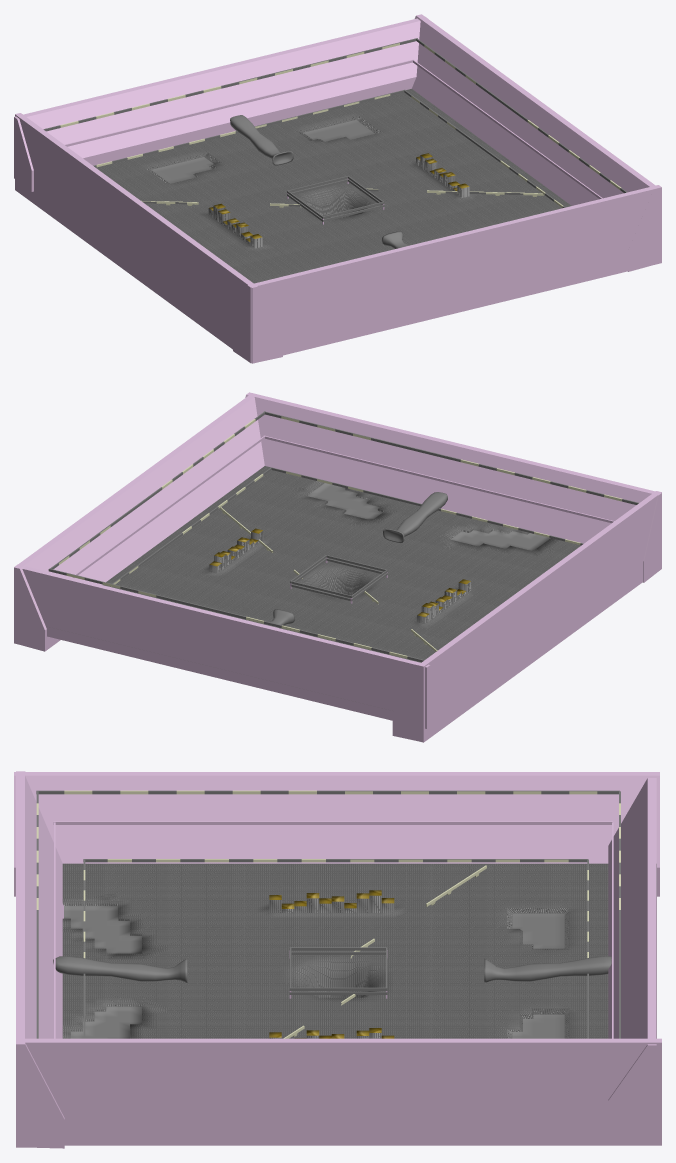
Rendered from electricCentral.glb.
The picture shows the model from 3 angles, top to bottom: view 1: azimuth 30°, elevation 25°; view 2: azimuth 150°, elevation 25°; view 3: azimuth 270°, elevation 25°; orthographic projection. The views are drawn at different scales.
Parts seen in each view (by area): view 1: Plane, Cube.002, Cube.003, Cube.001, Cube, ledge.016, ledge.020, Cube.004, ledge.012, ledge.018, ledge.022, ledge.014; view 2: Plane, Cube.003, Cube.002, Cube.001, Cube, ledge.016, ledge.017, ledge.021, Cube.005, ledge.013, ledge.018, ledge.022 (+1 smaller); view 3: Plane, Cube, Cube.001, Cube.002, Cube.003, ledge.019, ledge.023, Cube.005, Cube.004, ledge.015, ledge.017.
Boxes of the visible parts, bbox=[...] form: Plane: bbox=[96, 88, 571, 283]; Cube.002: bbox=[233, 185, 661, 363]; Cube.003: bbox=[14, 17, 427, 191]; Cube.001: bbox=[15, 113, 282, 363]; Cube: bbox=[412, 14, 658, 271]; ledge.016: bbox=[43, 38, 417, 131]; ledge.020: bbox=[64, 59, 413, 146]; Cube.004: bbox=[230, 115, 293, 165]; ledge.012: bbox=[93, 89, 405, 167]; ledge.018: bbox=[416, 38, 627, 193]; ledge.022: bbox=[413, 60, 602, 198]; ledge.014: bbox=[404, 90, 565, 207]; Plane: bbox=[49, 466, 580, 708]; Cube.003: bbox=[15, 564, 444, 728]; Cube.002: bbox=[245, 392, 661, 582]; Cube.001: bbox=[392, 491, 661, 742]; Cube: bbox=[14, 393, 264, 651]; ledge.016: bbox=[48, 568, 424, 662]; ledge.017: bbox=[264, 411, 638, 504]; ledge.021: bbox=[263, 435, 614, 523]; Cube.005: bbox=[383, 492, 447, 542]; ledge.013: bbox=[270, 467, 583, 545]; ledge.018: bbox=[50, 411, 265, 569]; ledge.022: bbox=[71, 435, 265, 577]; Plane: bbox=[62, 863, 656, 1038]; Cube: bbox=[16, 1038, 661, 1145]; Cube.001: bbox=[14, 772, 659, 896]; Cube.002: bbox=[16, 771, 64, 1148]; Cube.003: bbox=[608, 778, 656, 1129]; ledge.019: bbox=[36, 790, 619, 794]; ledge.023: bbox=[53, 821, 612, 824]; Cube.005: bbox=[53, 956, 187, 982]; Cube.004: bbox=[484, 956, 611, 982]; ledge.015: bbox=[83, 859, 588, 862]; ledge.017: bbox=[36, 791, 38, 1038].
Bounding box in the file's own units: 40.59 × 9.95 × 40.59.
Materials: 5 (2 with a texture image).
